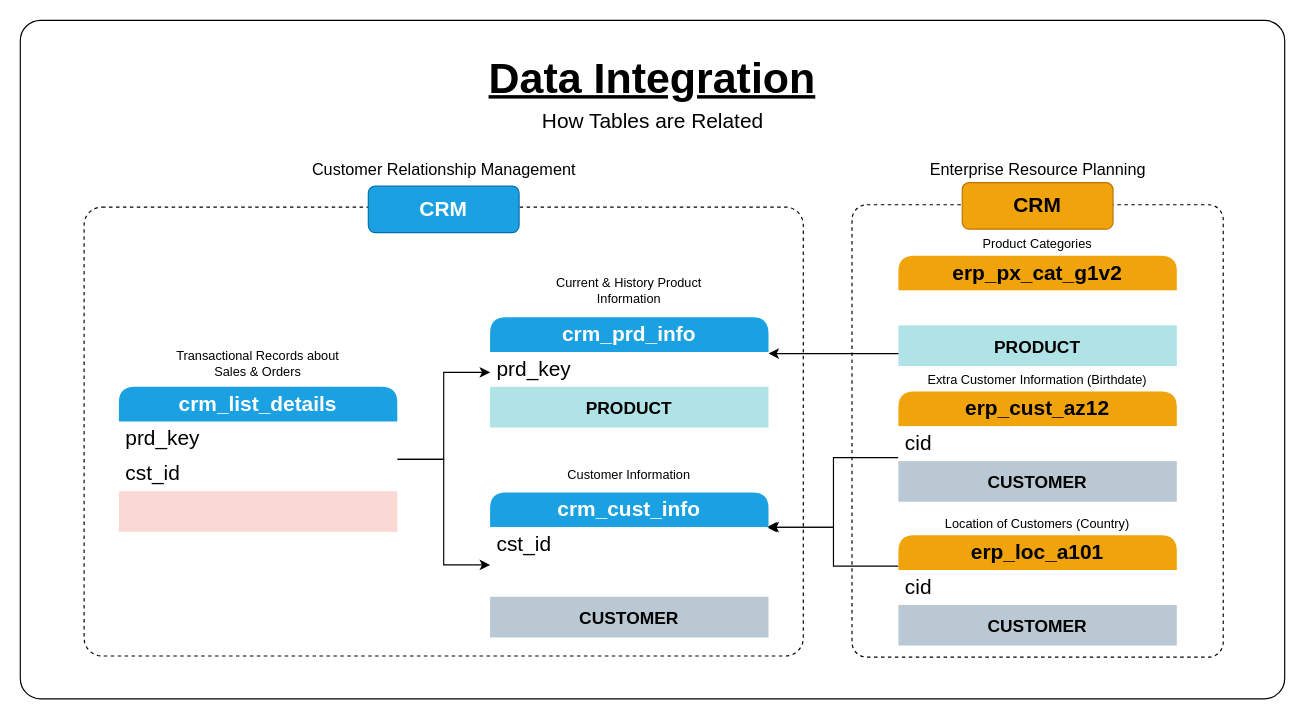
Some shapes in this 1305 by 719 pixel diagram are drawn without their labels. The centre of each missing label's shape, as x and y in pixels:
cst_key: the point at 629,578
id: the point at 1037,307
SALES: the point at 257,511
